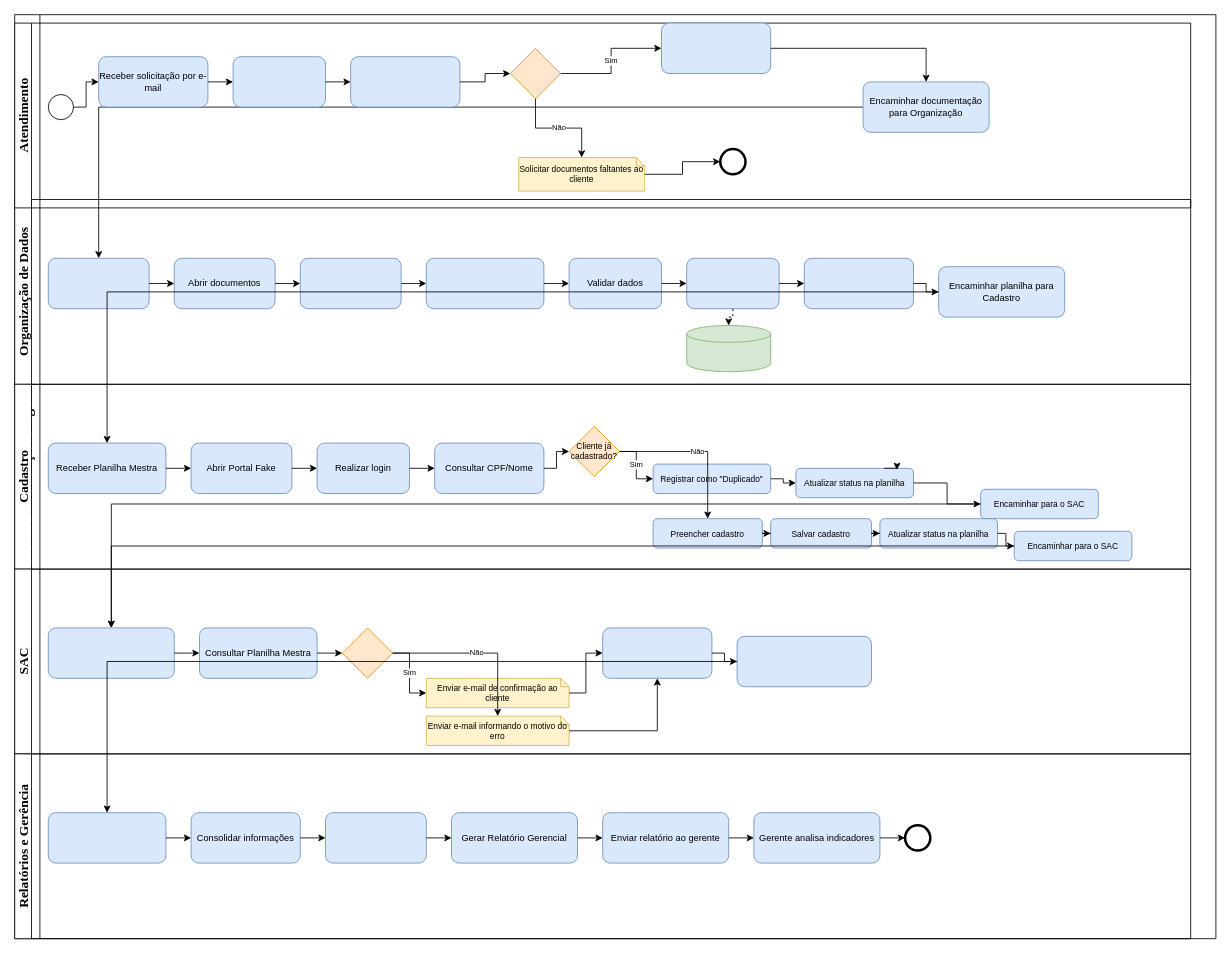
Image size: 1231x953. Some labels were removed from this diagram. The box of each missing label's shape, as (x1, y1, x2, y2) in pixels:
Abrir e-mail: (232, 56, 326, 107)
Arquivar documentos: (803, 257, 914, 309)
Atualizar Status_SAC: (602, 627, 712, 678)
Cadastro realizado com sucesso?: (341, 627, 393, 678)
Calcular indicadores: (325, 812, 426, 863)
Conferir documentos: (350, 56, 460, 107)
Documentação completa?: (509, 47, 561, 99)
Encaminhar dados para Relatórios: (736, 635, 872, 687)
Extrair informações: (299, 257, 401, 309)
Organizar documentos: (661, 22, 771, 74)
Planilha Mestra: (686, 325, 771, 372)
Preencher Planilha Mestra: (425, 257, 544, 309)
Receber dados processados: (47, 812, 166, 863)
Receber documentação: (47, 257, 149, 309)
Receber status do cadastro: (47, 627, 174, 678)
Salvar planilha: (686, 257, 779, 309)
